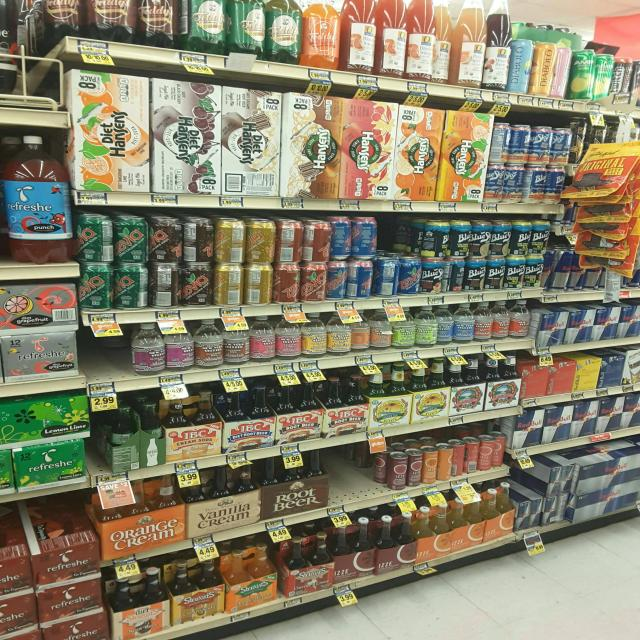empty: (81, 325, 139, 377), (326, 452, 381, 497)
